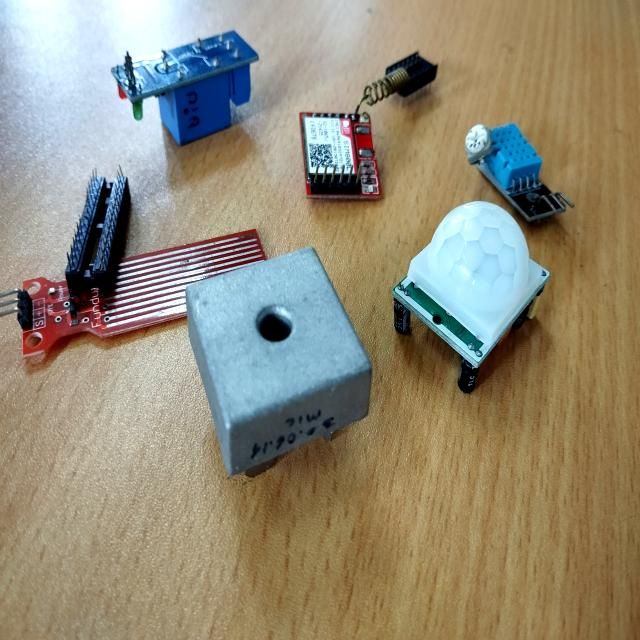Bridge-Rectifier: (182, 240, 377, 487)
GSM-Module: (296, 67, 408, 205)
Humidity-Sensor: (466, 115, 574, 230)
IC-Base-14-Pin: (385, 48, 438, 104)
IC-Base-28-Pin: (63, 166, 133, 308)
Motion-Sensor: (390, 194, 552, 401)
Relay-Module: (106, 22, 260, 149)
Trimmer-Potentiometer: (462, 122, 498, 179)
Water-Sensor: (0, 224, 275, 372)
